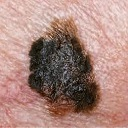Melanoma: (28, 34, 101, 112)
